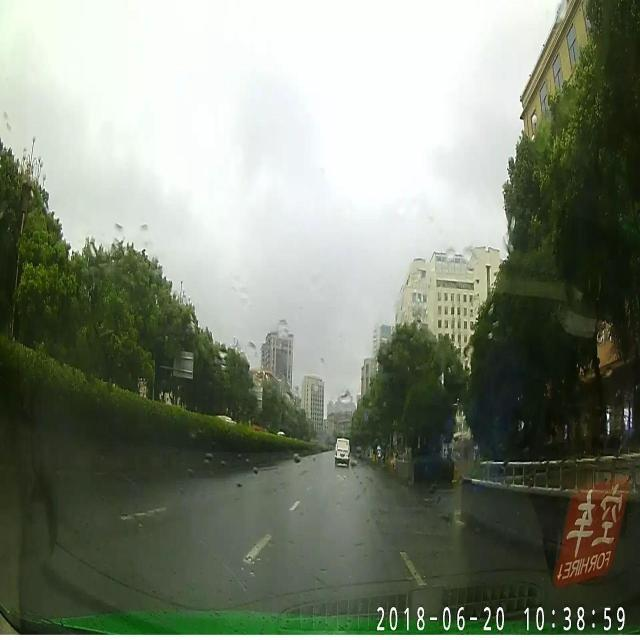car: (334, 436, 349, 466)
